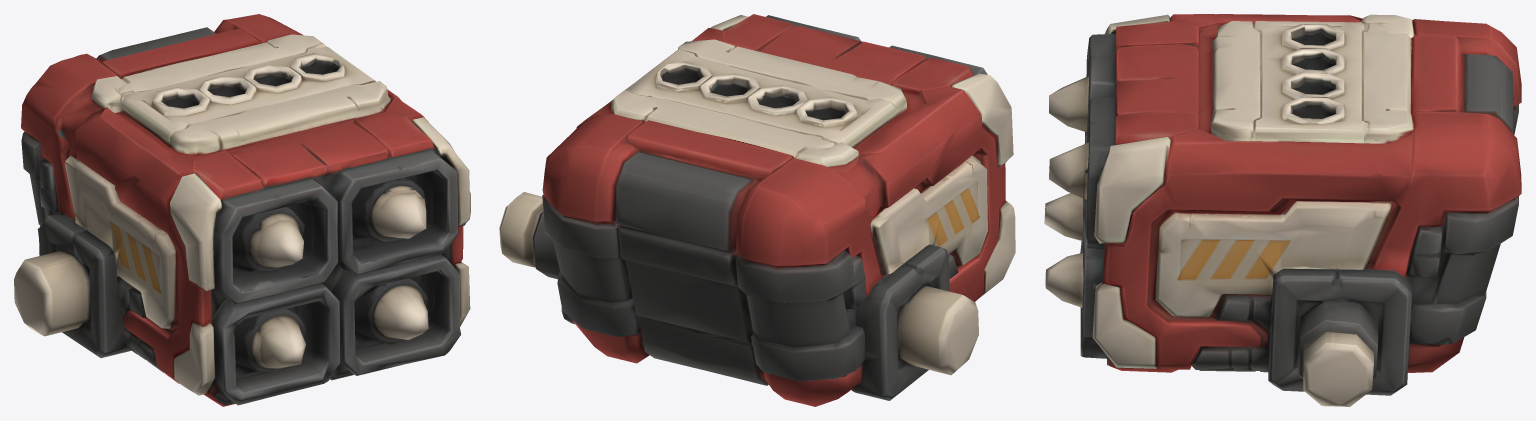
The model's file is seeker-rocket.glb.
3 renders of one model, left to right at view 1: azimuth 30°, elevation 25°; view 2: azimuth 150°, elevation 25°; view 3: azimuth 270°, elevation 25°, orthographic. The views are drawn at different scales.
Parts seen in each view (by area): view 1: tripo_node_fae5809f-e66b-4b31-807d-0fcff317ab9a; view 2: tripo_node_fae5809f-e66b-4b31-807d-0fcff317ab9a; view 3: tripo_node_fae5809f-e66b-4b31-807d-0fcff317ab9a.
Boxes of the visible parts, x1,y1,x2,y2 form: tripo_node_fae5809f-e66b-4b31-807d-0fcff317ab9a: [14, 14, 470, 406]; tripo_node_fae5809f-e66b-4b31-807d-0fcff317ab9a: [499, 14, 1015, 406]; tripo_node_fae5809f-e66b-4b31-807d-0fcff317ab9a: [1044, 14, 1521, 406].
Size of the model in its own units: 0.9808 by 0.5101 by 0.8644.
Materials: 1 (1 with a texture image).
